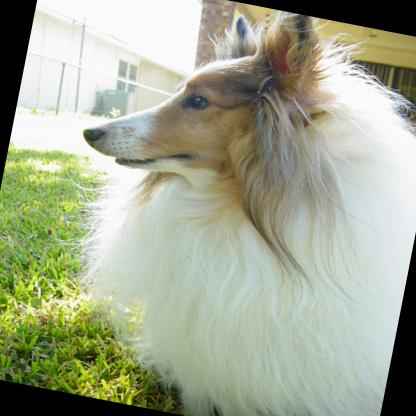Shetland_sheepdog: (26, 0, 416, 416)
